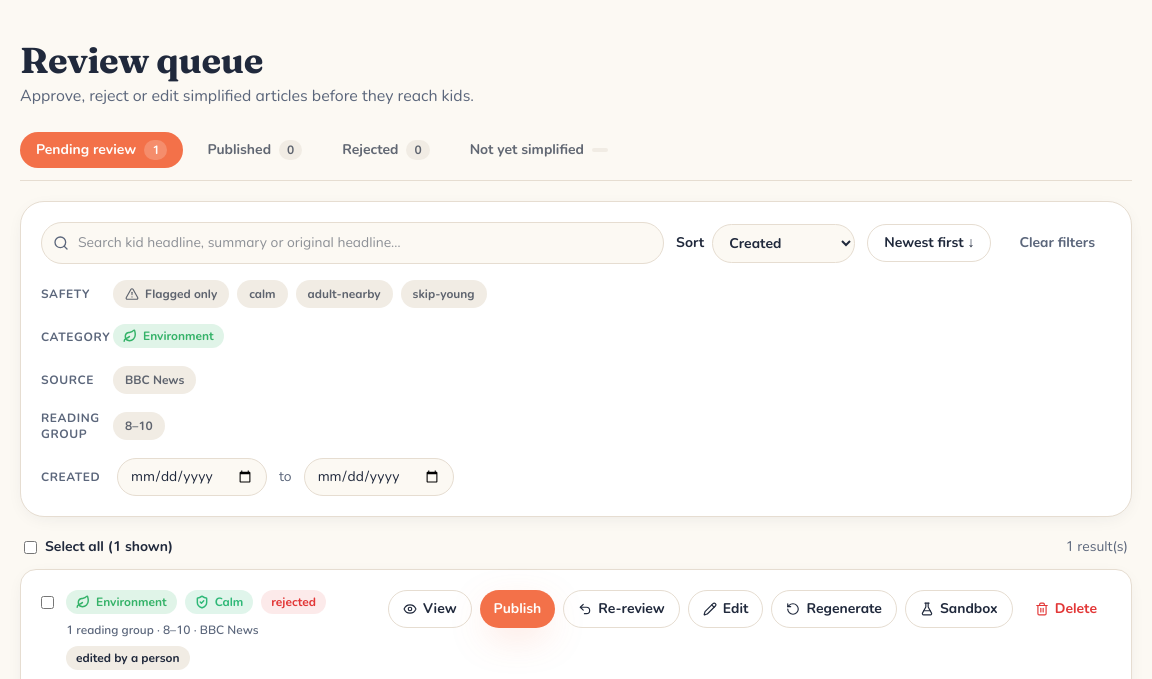
Scenario: reading a story before judging it › shows the editor context a reader would not see
The image size is (1152, 679).
Click the button "View": click(430, 609) x1=388 y1=590 x2=472 y2=628
(page scrolled)
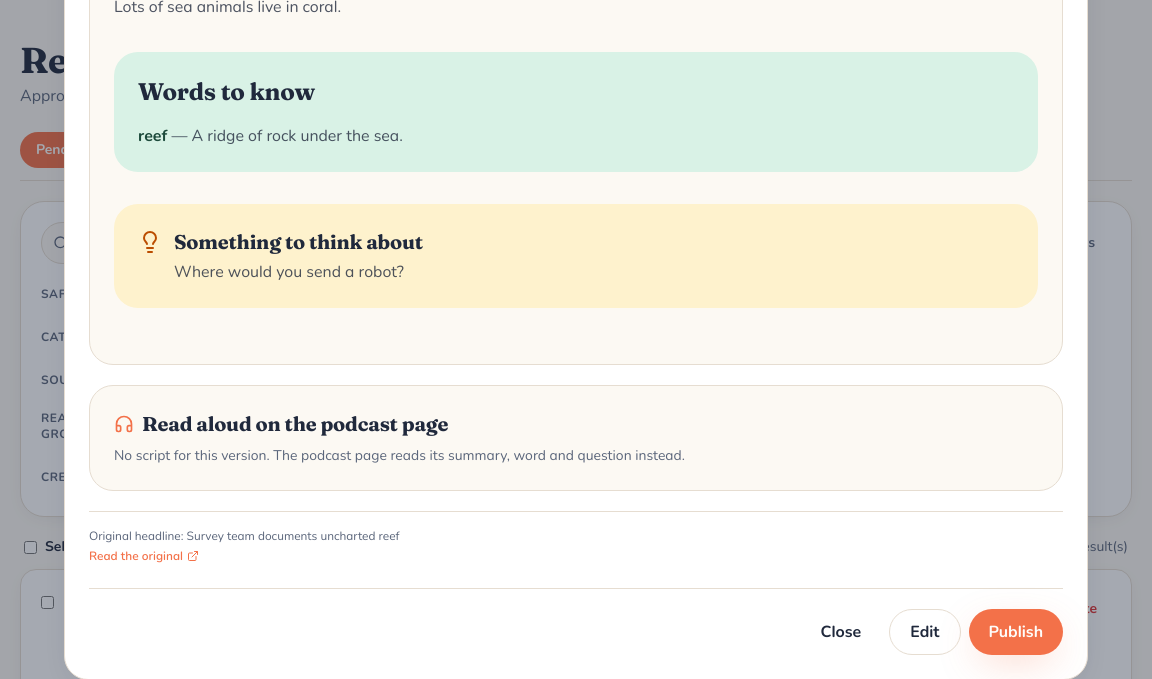
expect the text "Original headline: Survey team documents uncharted reef" is shown: met, box x1=89 y1=528 x2=400 y2=544
